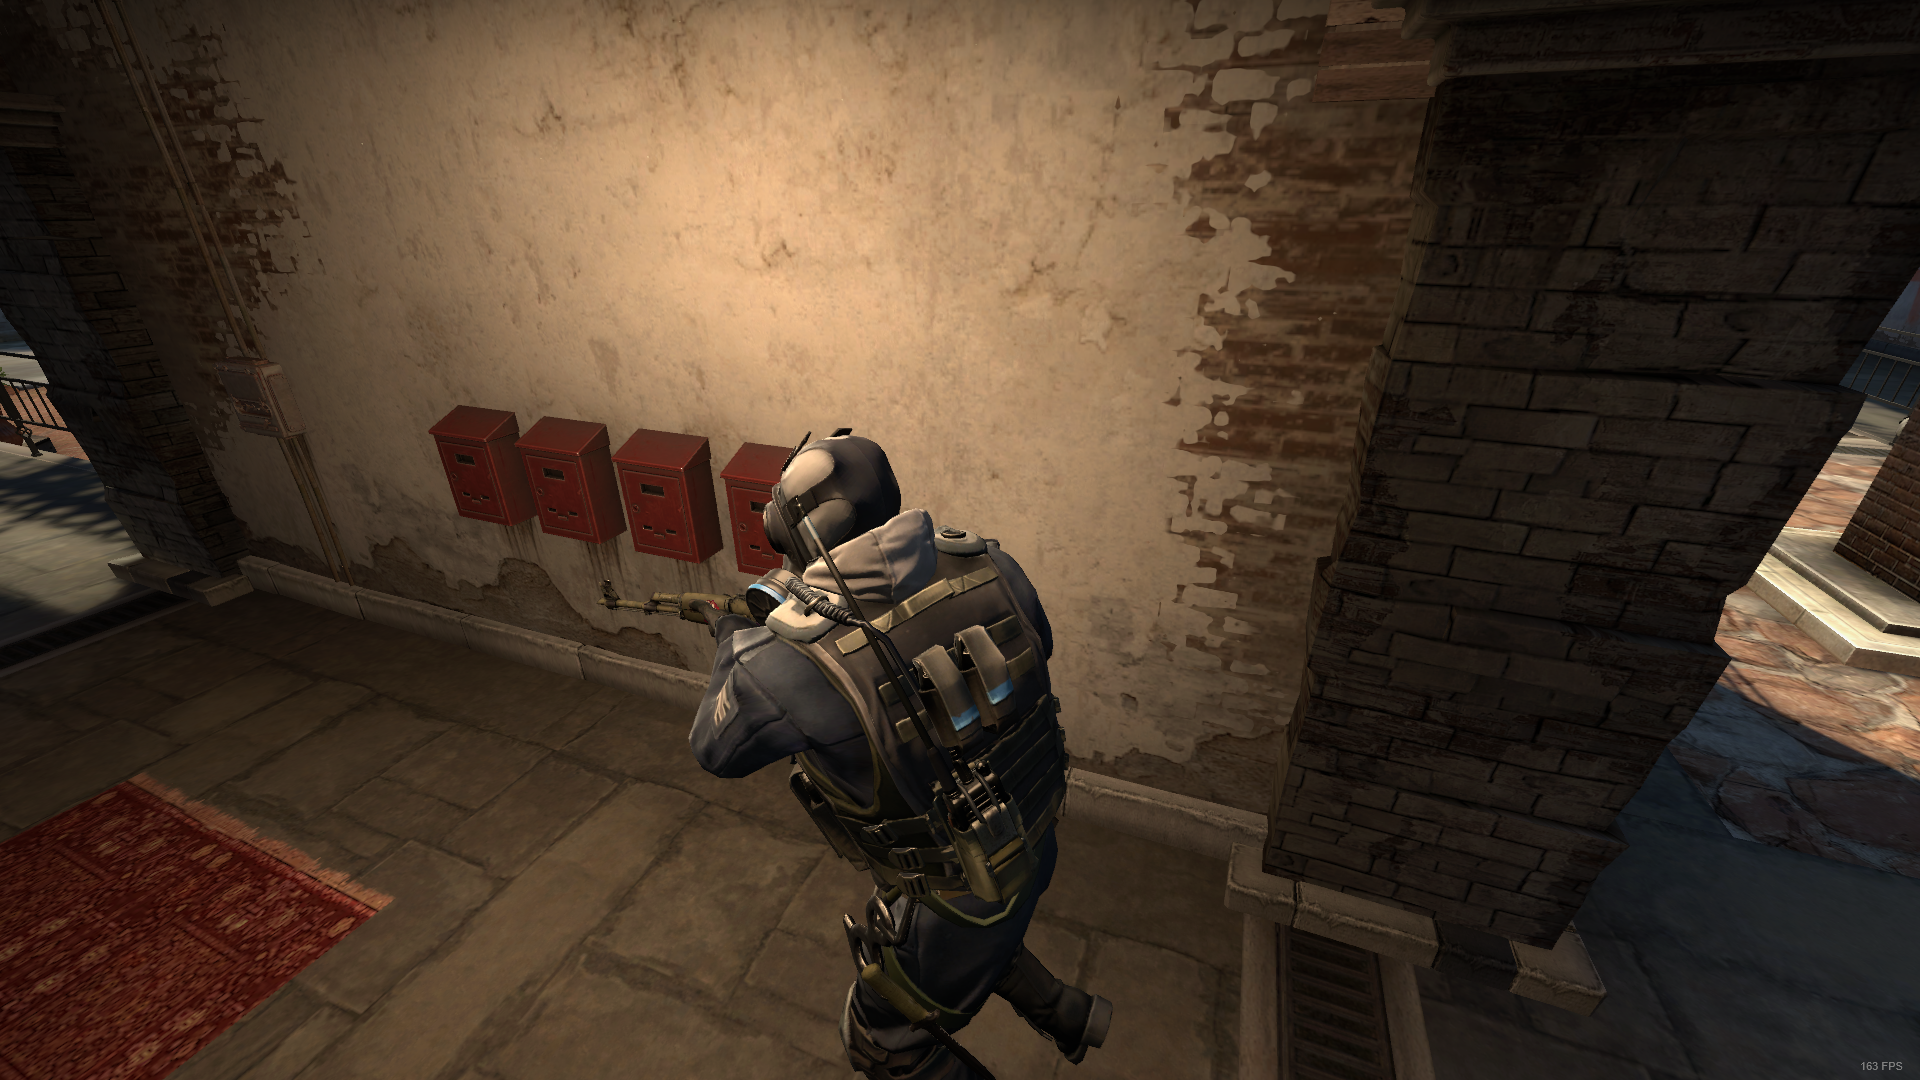ct: (678, 419, 1145, 1080)
